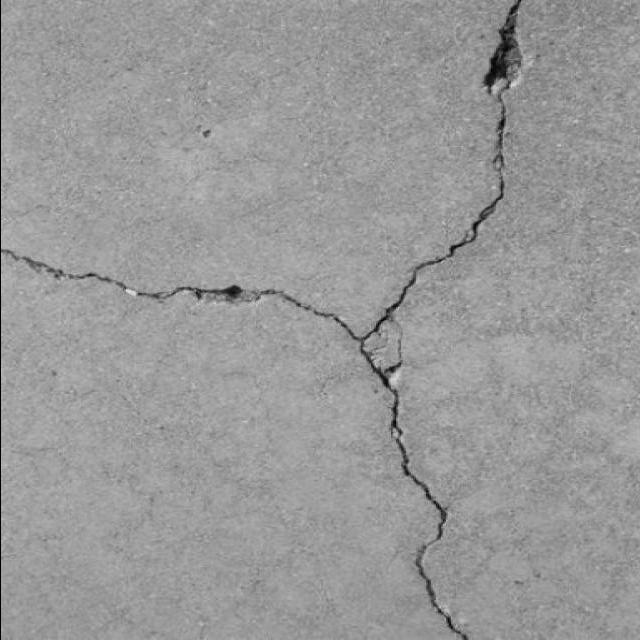SurfaceCrack: (318, 0, 547, 640), (0, 199, 398, 358)
